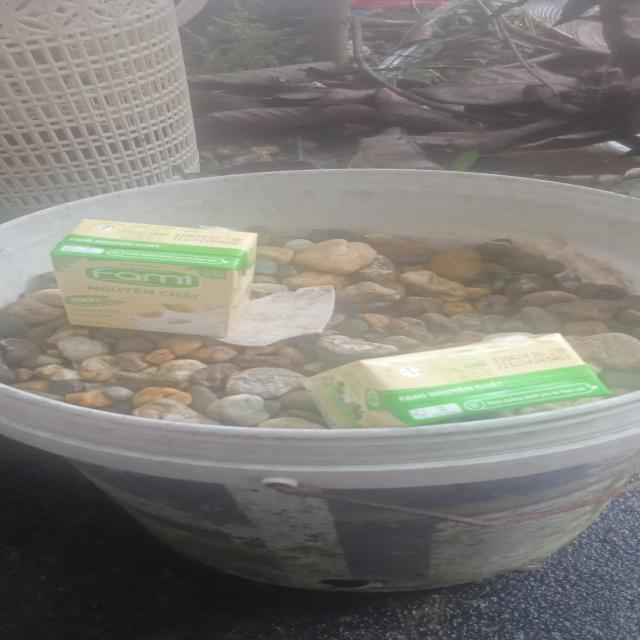Fami: (302, 333, 613, 431), (50, 218, 260, 333)
